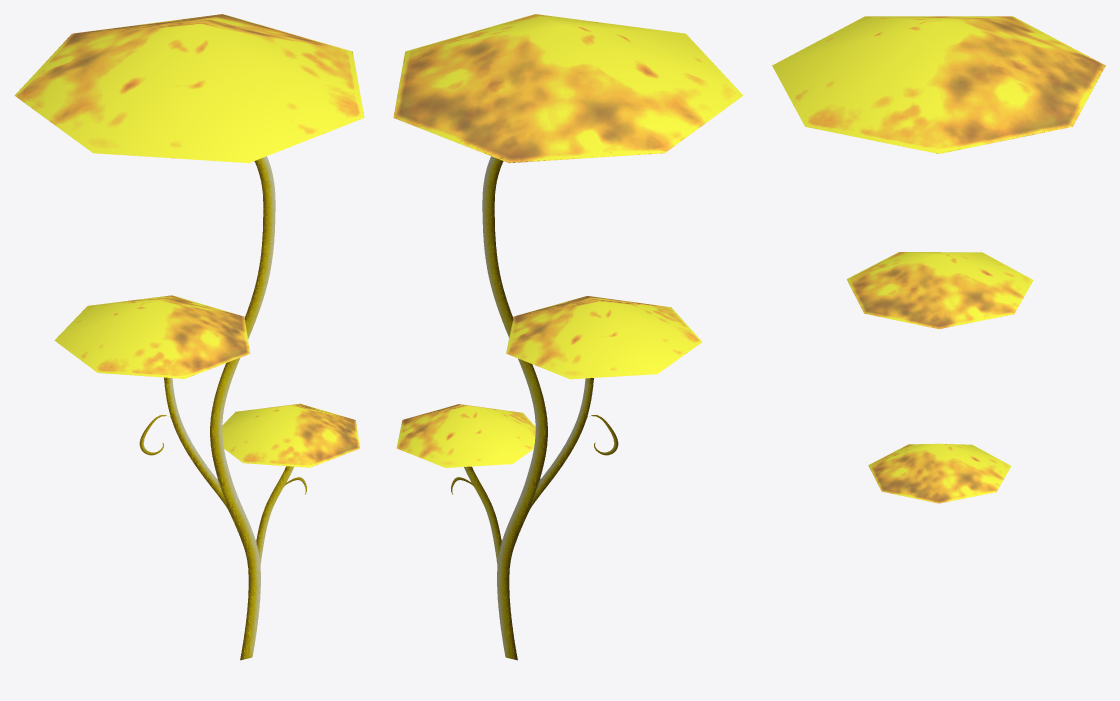
The model's file is Mushroom_A_v2.fbx.
The picture shows the model from 3 angles, left to right: view 1: azimuth 30°, elevation 25°; view 2: azimuth 150°, elevation 25°; view 3: azimuth 270°, elevation 25°; orthographic projection. The views are drawn at different scales.
Parts seen in each view (by area): view 1: pCone4; view 2: pCone4; view 3: pCone4.
Boxes of the visible parts, x1,y1,x2,y2 form: pCone4: (14, 14, 364, 660); pCone4: (393, 14, 743, 660); pCone4: (772, 16, 1105, 503).
Bounding box in the file's own units: 4.74 × 9.67 × 4.81.
